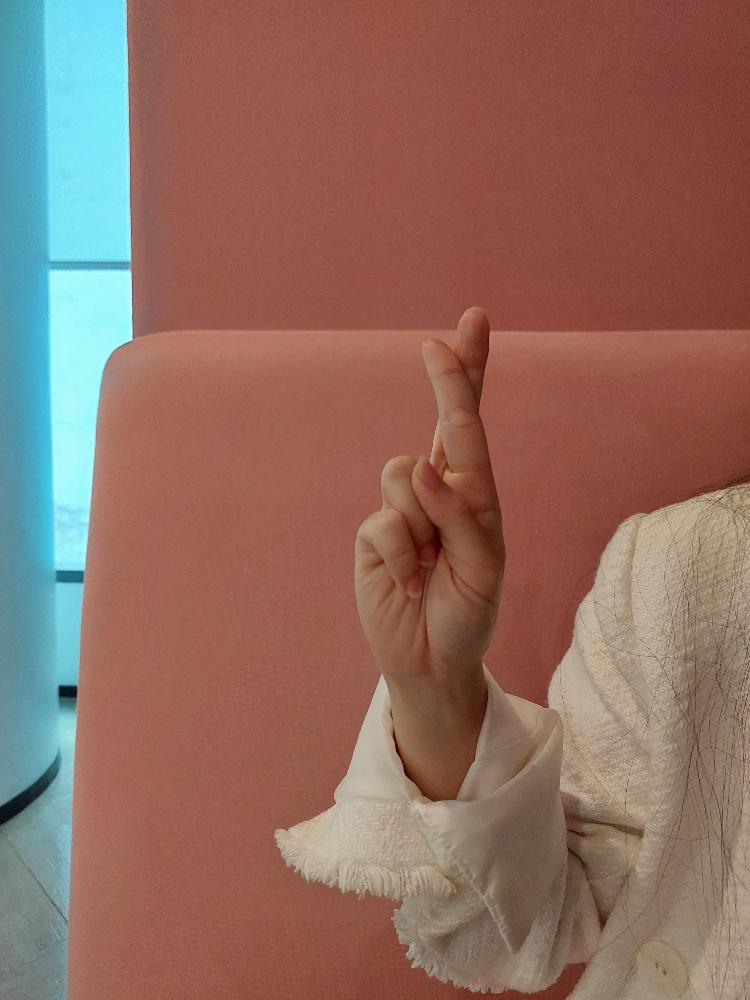r: (350, 303, 506, 670)
